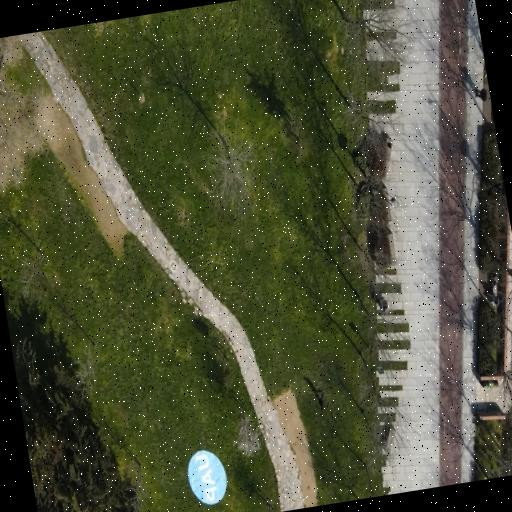UAP: (187, 449, 226, 505)
person: (315, 391, 324, 409), (475, 87, 487, 100)
